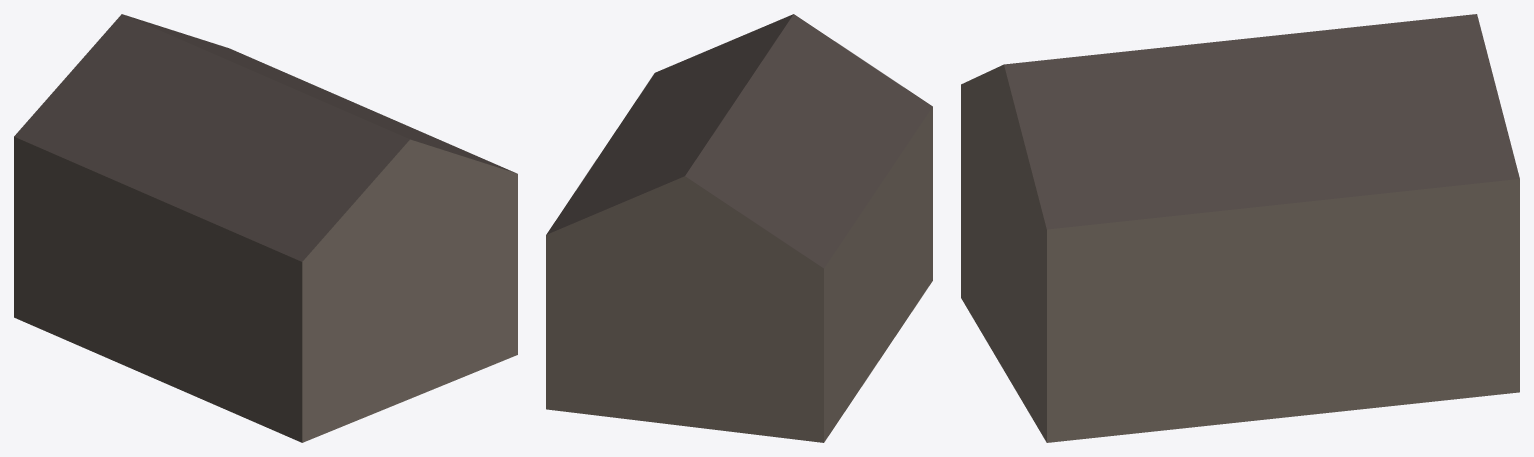
3 renders of one model, left to right at view 1: azimuth 30°, elevation 25°; view 2: azimuth 150°, elevation 25°; view 3: azimuth 270°, elevation 25°, orthographic. The views are drawn at different scales.
Parts seen in each view (by area): view 1: HP-w1200835416; view 2: HP-w1200835416; view 3: HP-w1200835416.
Boxes of the visible parts, left/top/right/bottom form: HP-w1200835416: left=14, top=14, right=517, bottom=442; HP-w1200835416: left=546, top=14, right=932, bottom=442; HP-w1200835416: left=961, top=14, right=1519, bottom=442.
Size of the model in its own units: 17.68 by 12.9 by 21.37.
